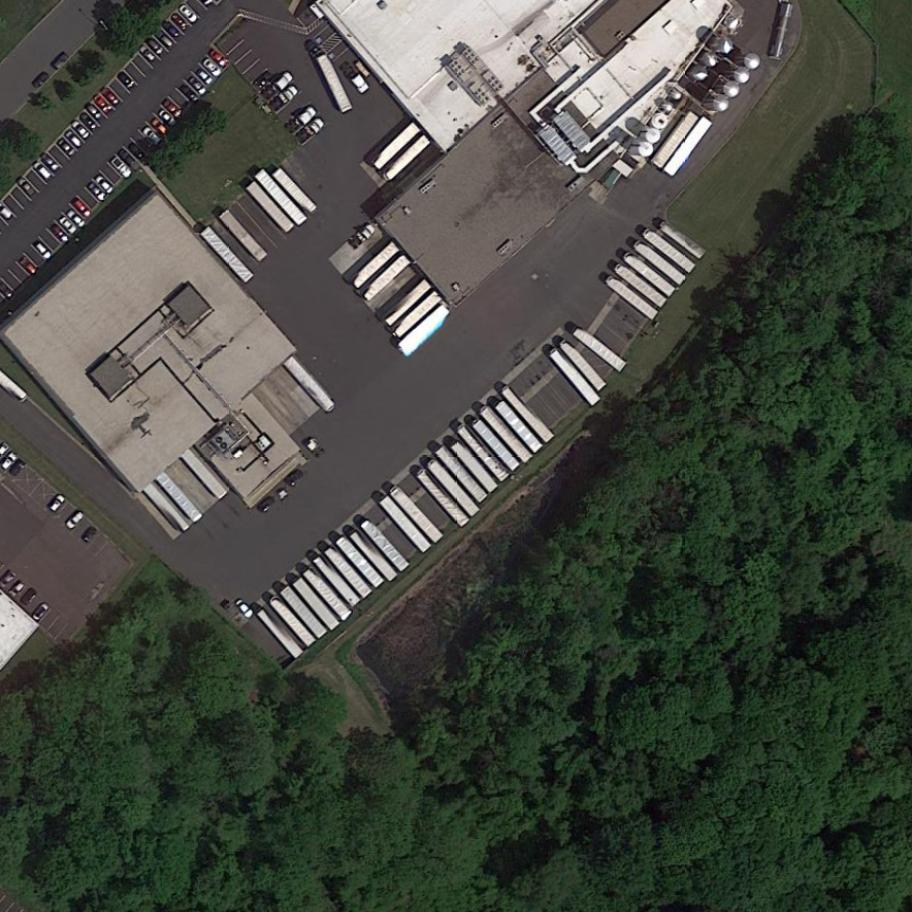large-vehicle: (414, 466, 472, 529), (282, 354, 340, 416), (388, 484, 446, 545), (499, 384, 556, 446), (455, 422, 512, 483), (548, 345, 603, 408), (478, 404, 534, 465), (426, 458, 481, 518), (200, 226, 256, 284), (379, 495, 433, 554), (435, 445, 489, 504), (663, 116, 714, 177), (254, 169, 308, 226), (470, 417, 522, 472), (361, 518, 412, 573), (558, 337, 609, 392), (268, 594, 319, 649), (303, 566, 353, 622), (612, 261, 670, 309), (652, 110, 699, 169), (495, 400, 545, 455), (621, 249, 677, 298), (641, 226, 697, 275), (292, 577, 341, 633), (336, 535, 386, 589), (451, 440, 500, 495), (573, 325, 628, 374), (632, 238, 687, 287), (280, 585, 329, 640), (219, 209, 269, 262), (256, 606, 306, 659), (604, 274, 659, 322), (325, 545, 373, 600), (351, 529, 400, 582), (391, 290, 444, 339), (361, 254, 412, 304), (246, 181, 295, 233), (314, 554, 361, 608), (350, 241, 401, 290), (382, 134, 432, 183), (372, 123, 421, 171), (384, 279, 433, 327), (657, 218, 708, 262), (272, 167, 318, 215)
small-vehicle: (109, 155, 136, 181), (31, 236, 57, 262), (76, 109, 102, 135), (47, 222, 72, 248), (14, 252, 40, 277), (16, 176, 41, 202), (161, 97, 187, 122), (168, 10, 193, 35), (68, 195, 94, 219), (153, 26, 177, 51), (283, 466, 307, 491), (57, 212, 81, 237), (85, 178, 109, 203), (116, 147, 141, 171), (100, 86, 124, 110), (5, 456, 29, 480), (256, 492, 280, 516), (91, 93, 115, 117), (69, 118, 93, 142), (63, 128, 87, 152), (39, 152, 63, 176), (17, 587, 40, 612), (64, 508, 88, 531), (201, 56, 225, 79), (56, 135, 79, 159), (177, 81, 201, 104), (94, 172, 117, 196), (160, 18, 183, 41), (84, 101, 107, 124), (233, 596, 255, 620), (137, 42, 159, 65), (46, 493, 68, 516), (33, 161, 55, 184), (207, 48, 230, 70), (187, 73, 209, 96), (30, 69, 52, 91), (144, 36, 166, 58), (114, 69, 136, 91), (79, 525, 101, 547), (51, 51, 72, 73), (177, 3, 199, 24), (66, 209, 88, 230), (149, 116, 171, 137), (141, 125, 163, 146), (32, 601, 52, 623), (7, 581, 28, 601), (157, 108, 178, 128), (127, 141, 147, 162), (195, 67, 215, 87)
storage-tank: (713, 33, 735, 55), (701, 49, 719, 68), (652, 111, 670, 130), (691, 62, 709, 80), (645, 125, 662, 144), (714, 94, 730, 113), (639, 139, 655, 158), (736, 65, 752, 84), (725, 81, 741, 98), (745, 53, 760, 70), (663, 103, 674, 114), (672, 90, 682, 102)
